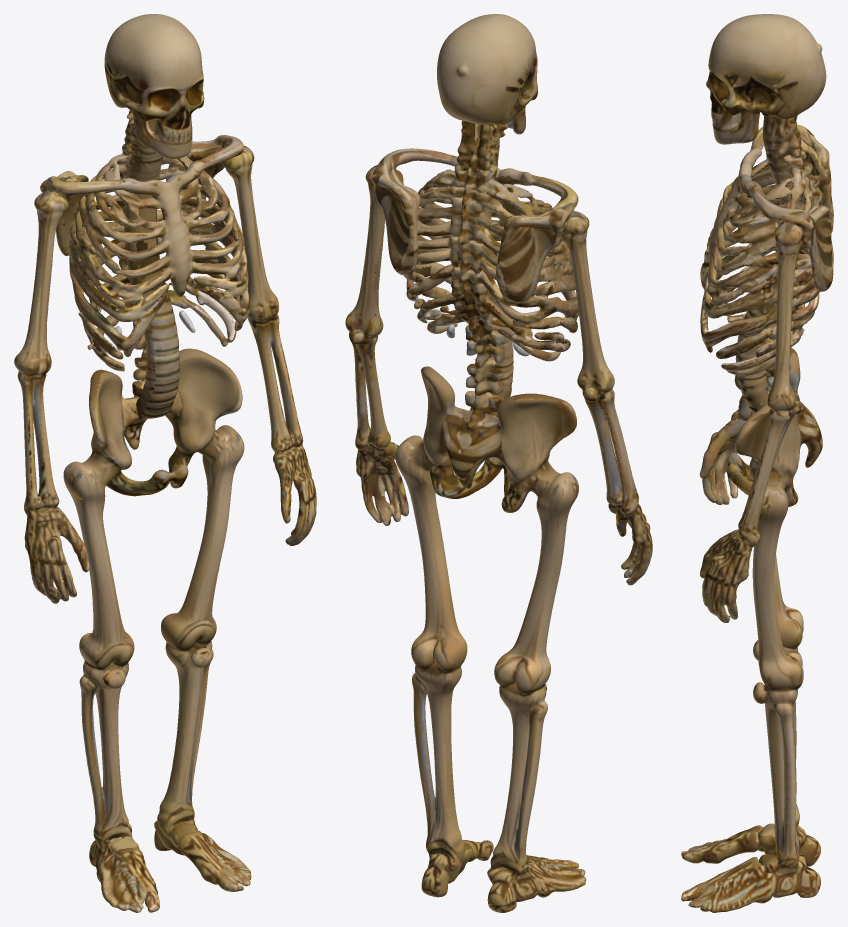
File: model-rangka.glb
3 views of the same model, side by side, from view 1: azimuth 30°, elevation 25°; view 2: azimuth 150°, elevation 25°; view 3: azimuth 270°, elevation 25° (orthographic).
Parts seen in each view (by area): view 1: textured; view 2: textured; view 3: textured.
Part boxes in pixels (x1,y1,x2,y2): textured: (14,14,316,912); textured: (345,14,652,912); textured: (681,14,833,912).
Size of the model in its own units: 0.6507 by 1.87 by 0.2996.
1 material, 1 textured.
